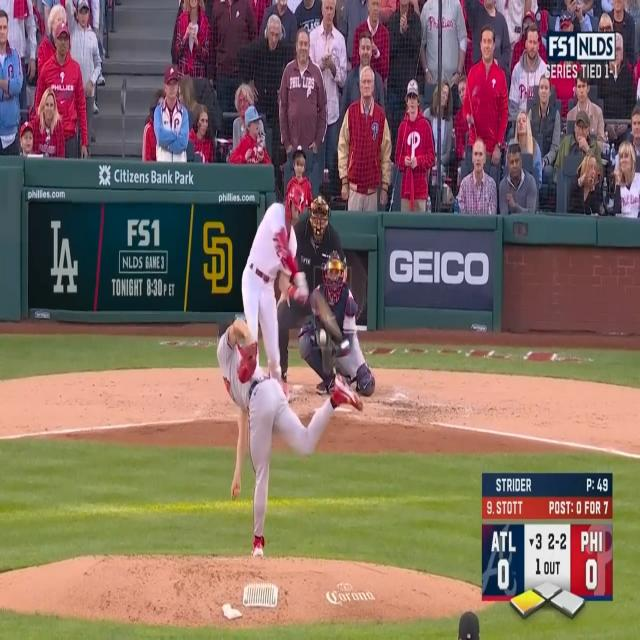baseball: (317, 325, 328, 349)
